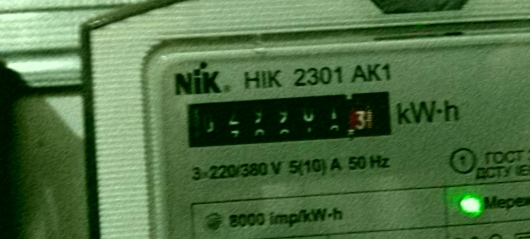0: (200, 112, 218, 134), (301, 99, 316, 125)
1: (326, 99, 340, 122)
2: (225, 107, 242, 127)
3: (353, 108, 368, 131)
9: (276, 102, 291, 125), (251, 104, 264, 127)
screen: (173, 81, 404, 158)
